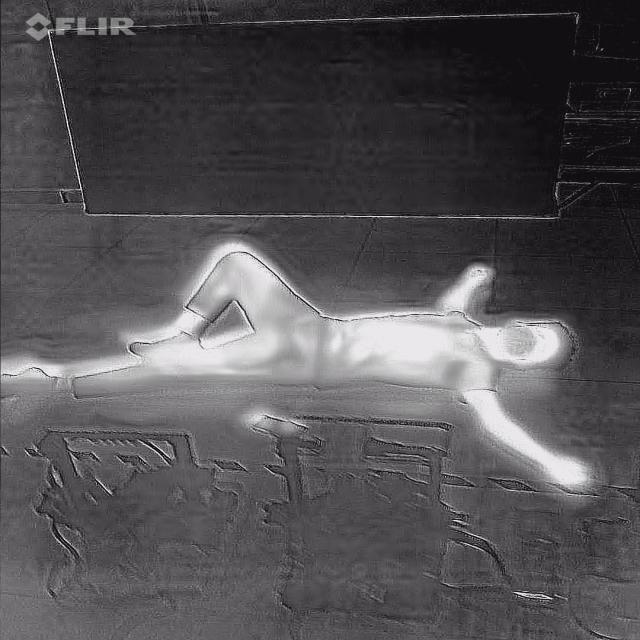Victim: (0, 235, 612, 498)
